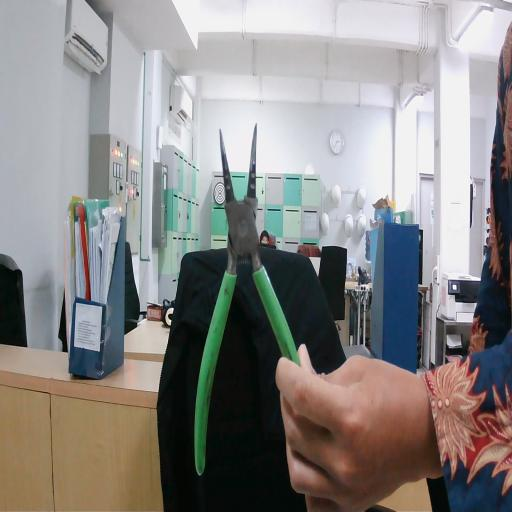tang_scun_hidrolik: (172, 116, 331, 482)
